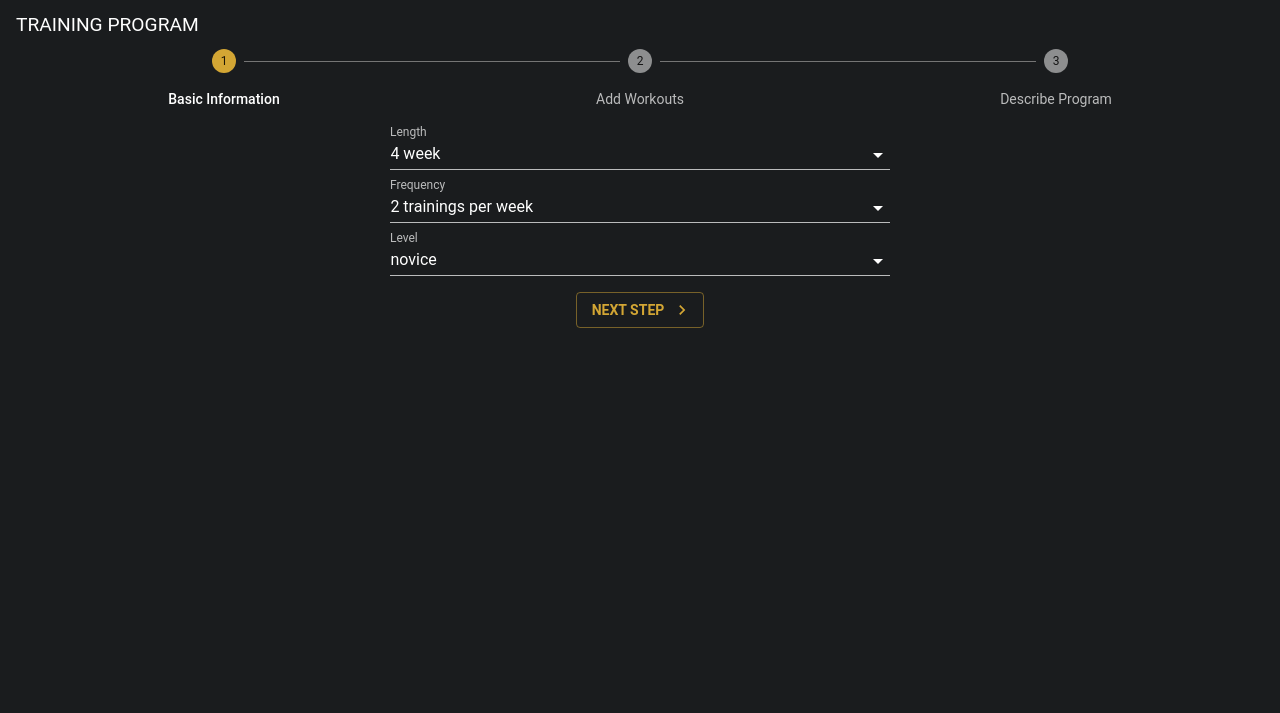
NewProgram Page › create program › second step shoud generate as many trainings as choosen frequency in first step › iteration #0
Select "2 trainings per week" in the dropdown labelled "Frequency": (640, 208) x1=390 y1=194 x2=890 y2=223
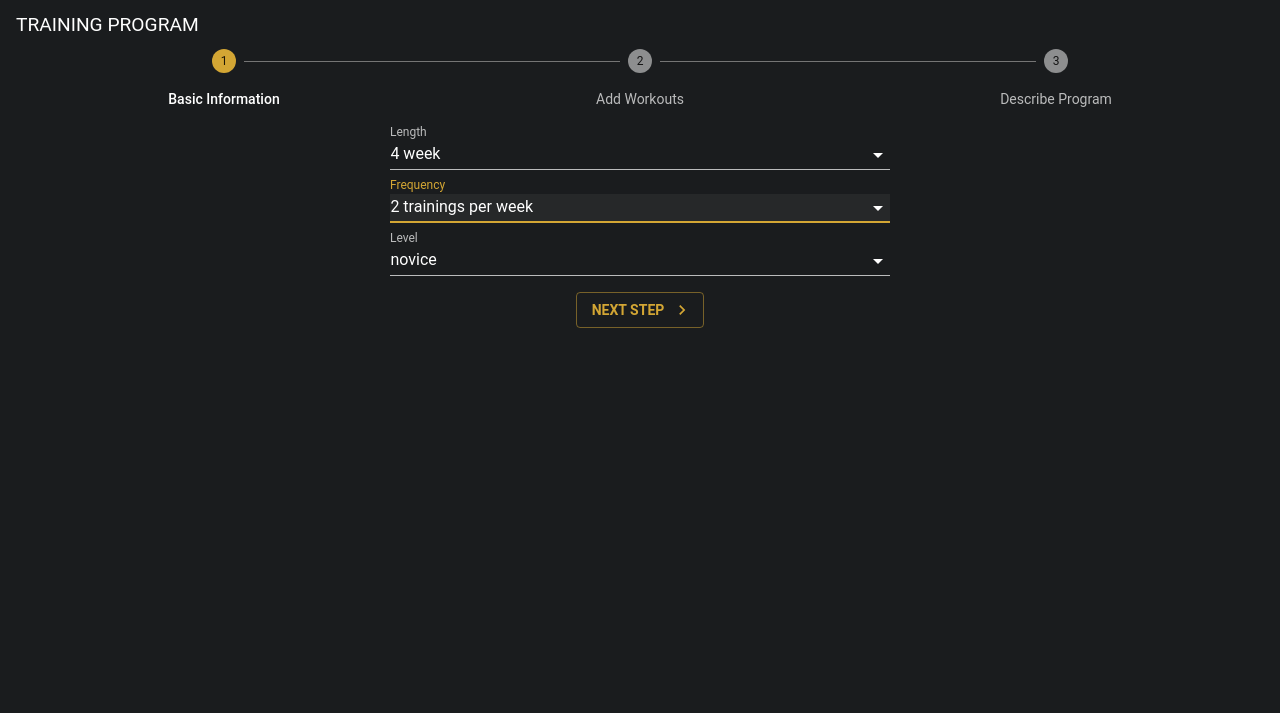
Click the button "next step": click(640, 310) x1=576 y1=292 x2=704 y2=328
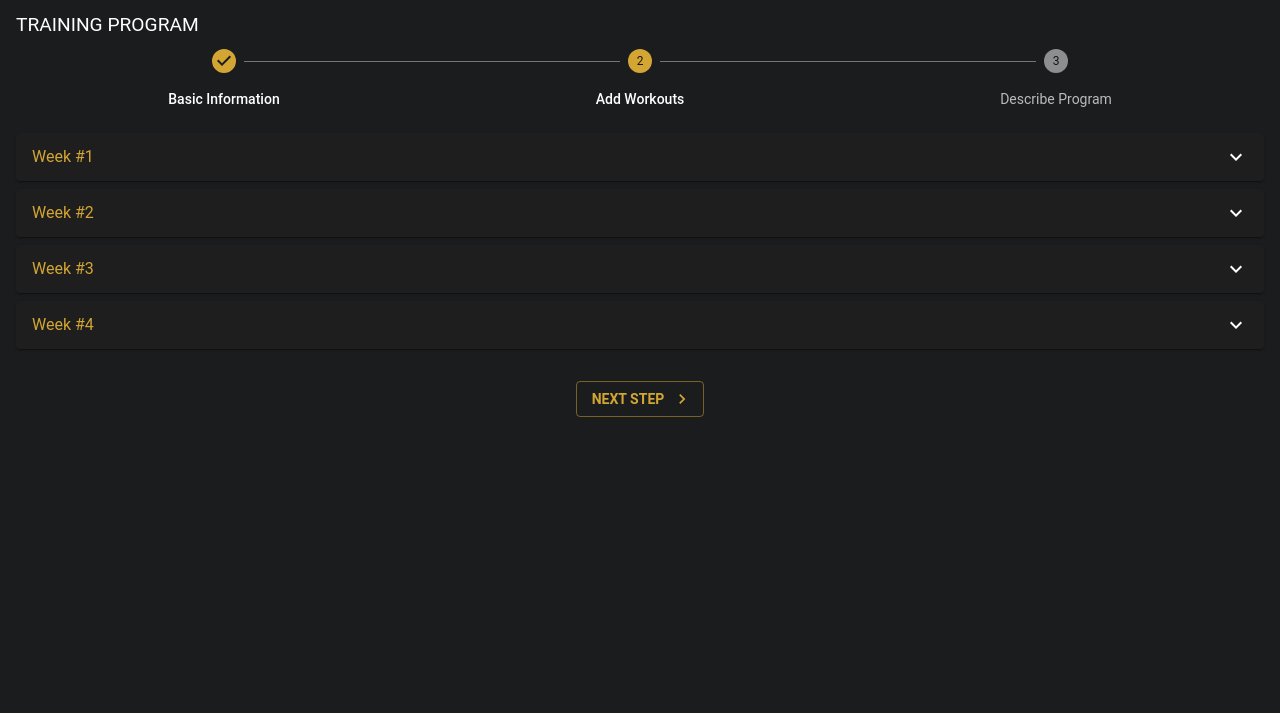
Click the button "Week #1": click(58, 156) x1=32 y1=145 x2=1248 y2=169
(page scrolled)
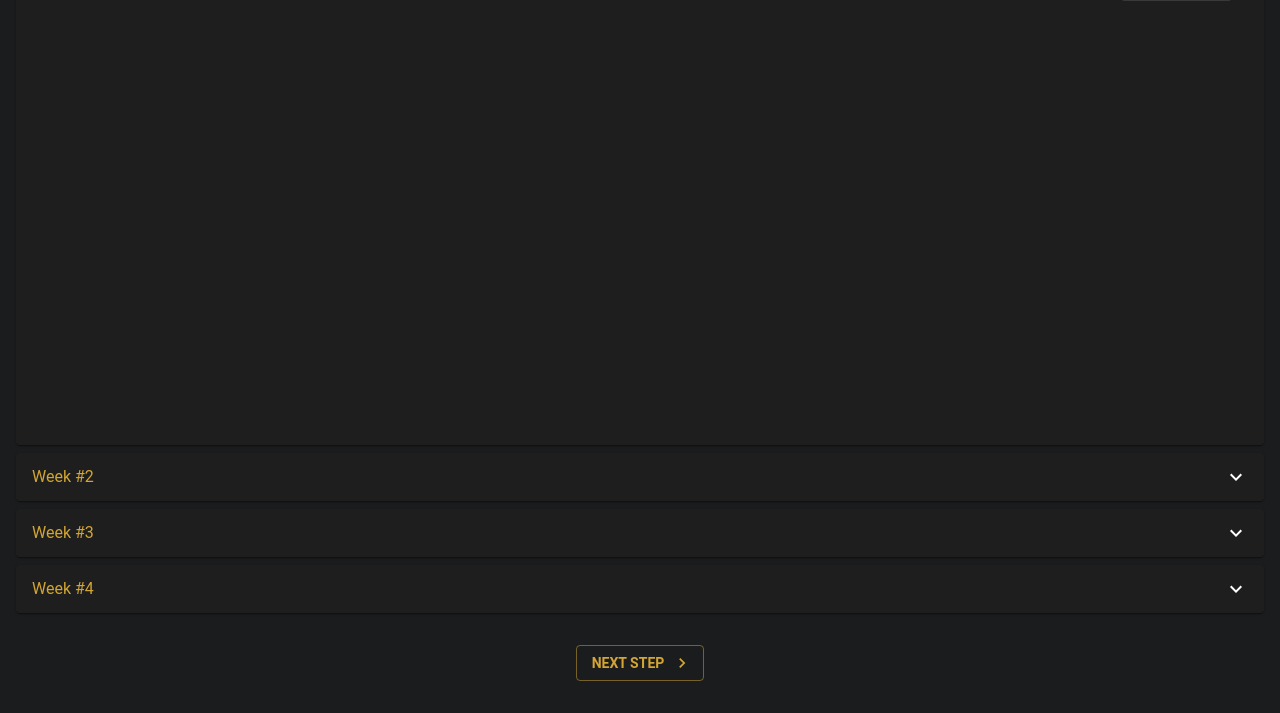
Click the button "Week #2": click(58, 476) x1=32 y1=465 x2=1248 y2=489
(page scrolled)
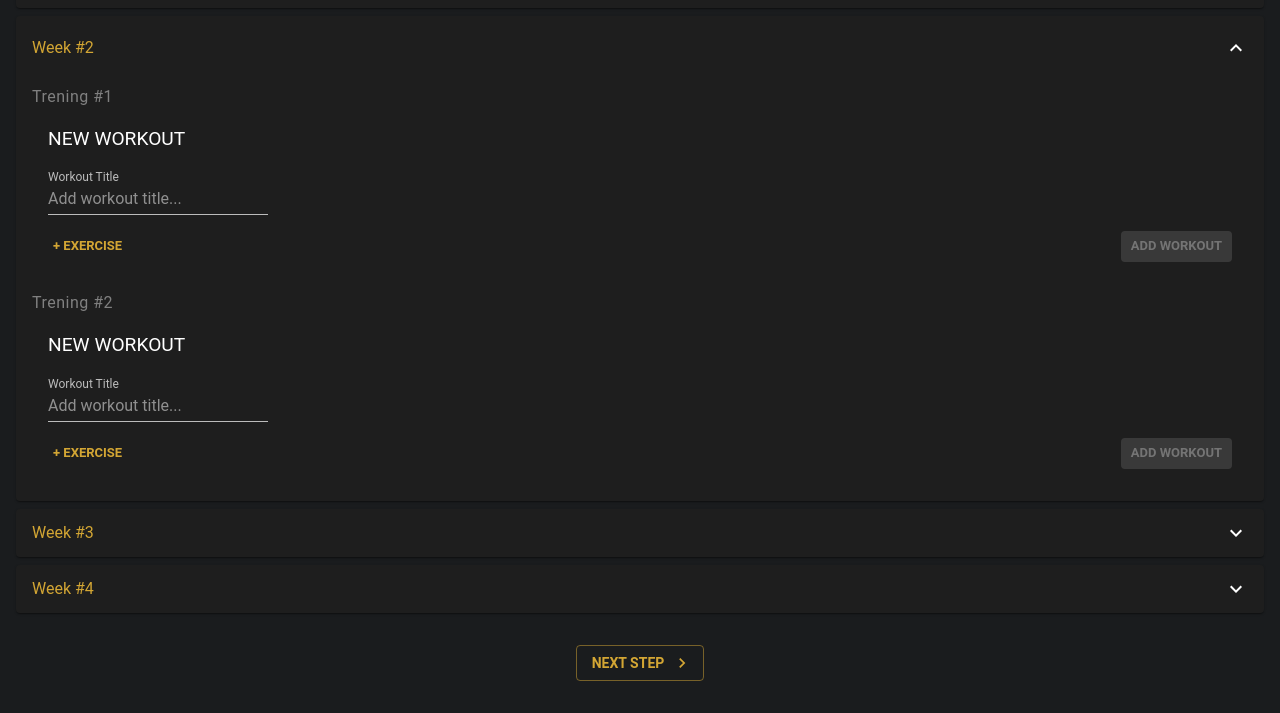
Click the button "Week #3": click(58, 532) x1=32 y1=521 x2=1248 y2=545
(page scrolled)
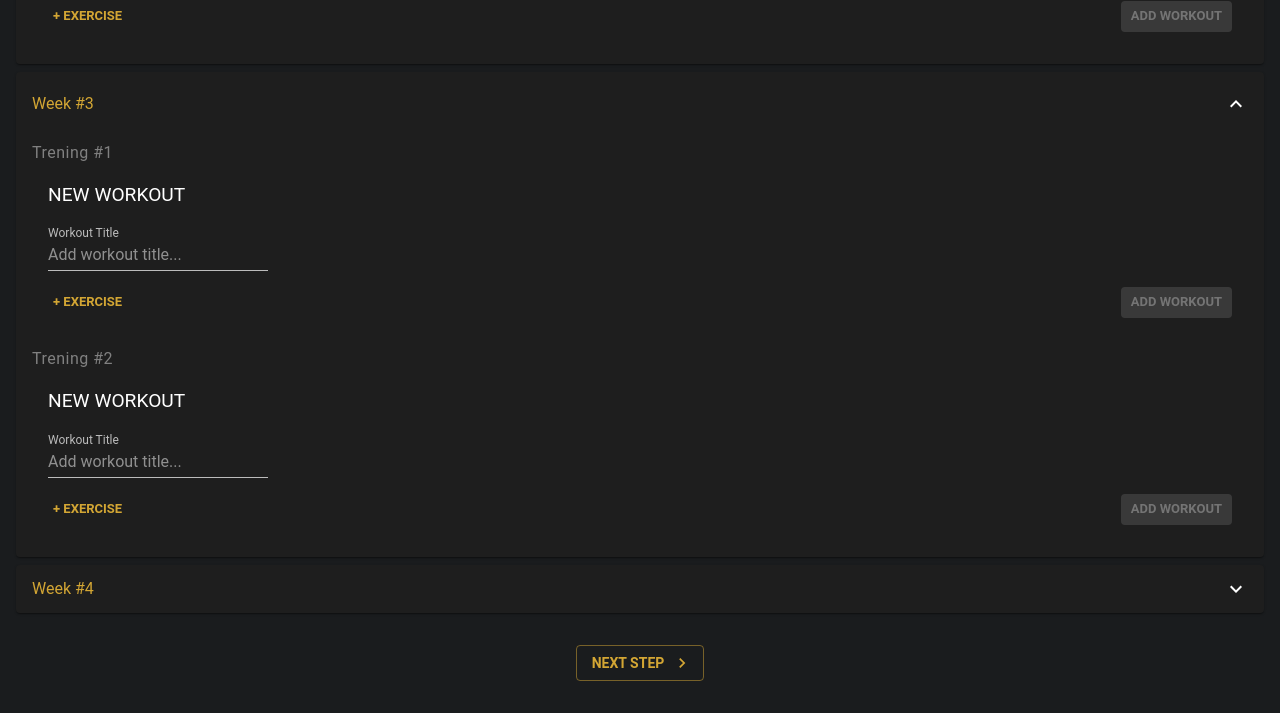
Click the button "Week #4": click(58, 588) x1=32 y1=577 x2=1248 y2=601
(page scrolled)
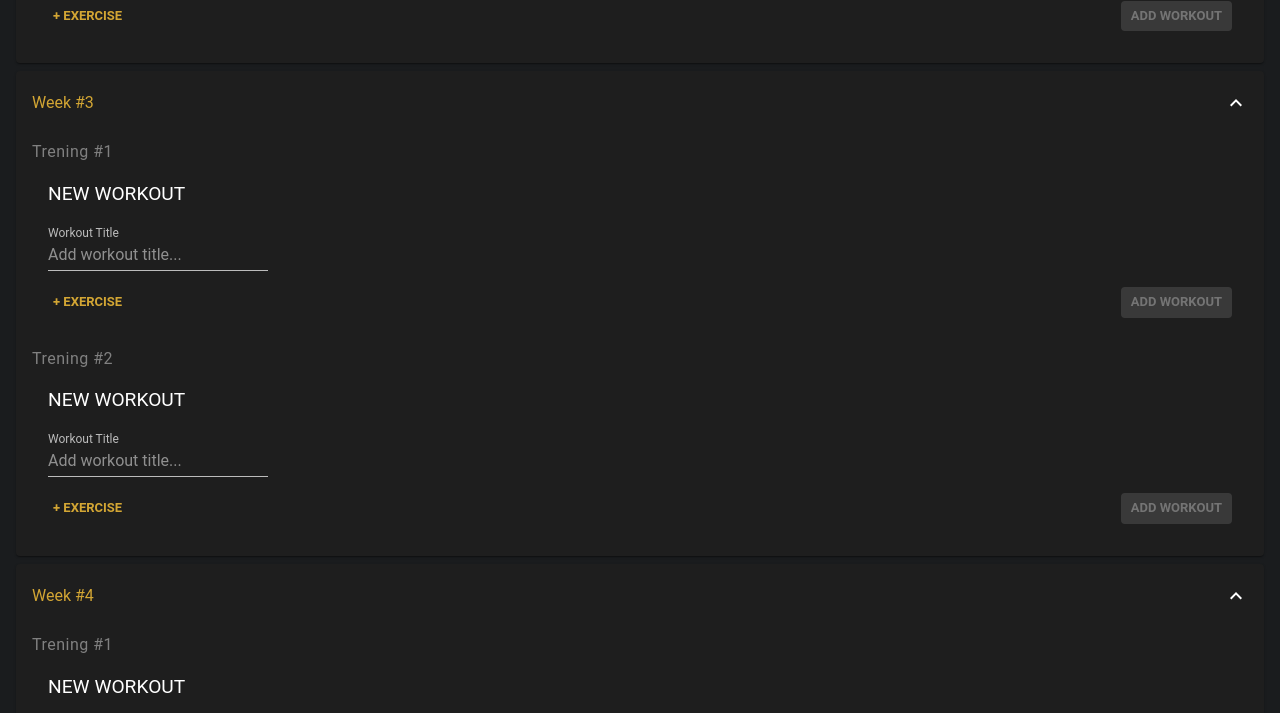
Expected: the number of headings "trening" is 8
